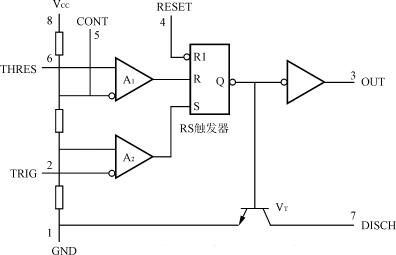bistable flip-flop: (191, 45, 229, 115)
comparator1: (115, 57, 153, 102), (115, 135, 153, 179)
discharge circuit: (232, 200, 276, 230)
output circuit: (281, 59, 326, 105)
reset circuit: (156, 10, 192, 32)
resistance: (54, 31, 63, 55), (54, 186, 63, 208), (55, 110, 63, 133)
